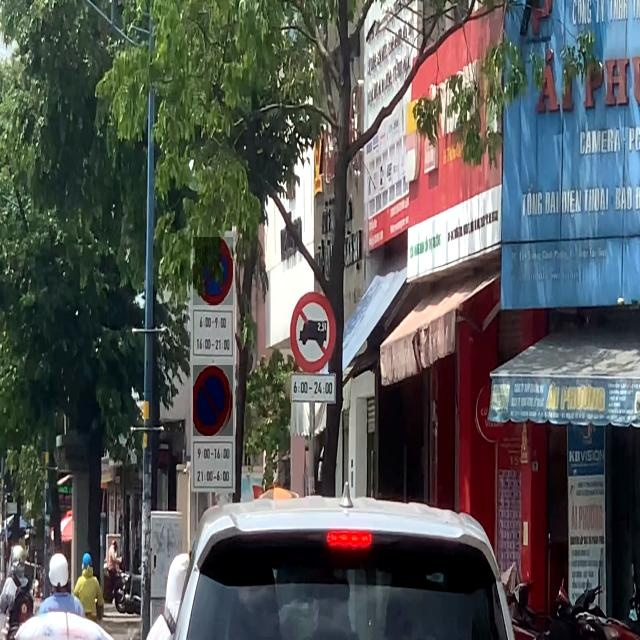bien_cam: (290, 291, 336, 373), (193, 365, 233, 436), (193, 237, 233, 305)
